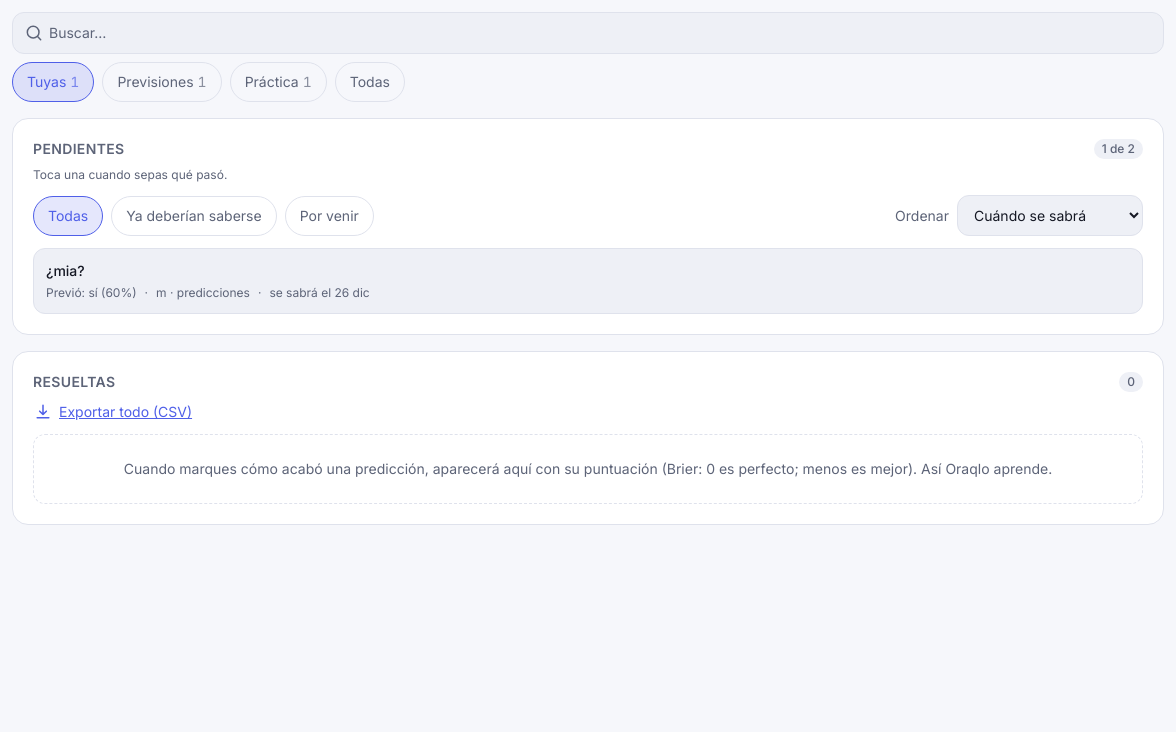
Predicciones: filtrar y quitar filtros › por defecto enseña solo las tuyas: la Práctica se resuelve sola
Expected: the text "¿mia?" is shown, [46, 262, 85, 279]
Expected: the text "mercado" is not shown
What coordinates should you click on to do the following:
click the radio button labelled "Práctica1"
I would click on:
 (278, 82)
Its box is [230, 62, 327, 102].
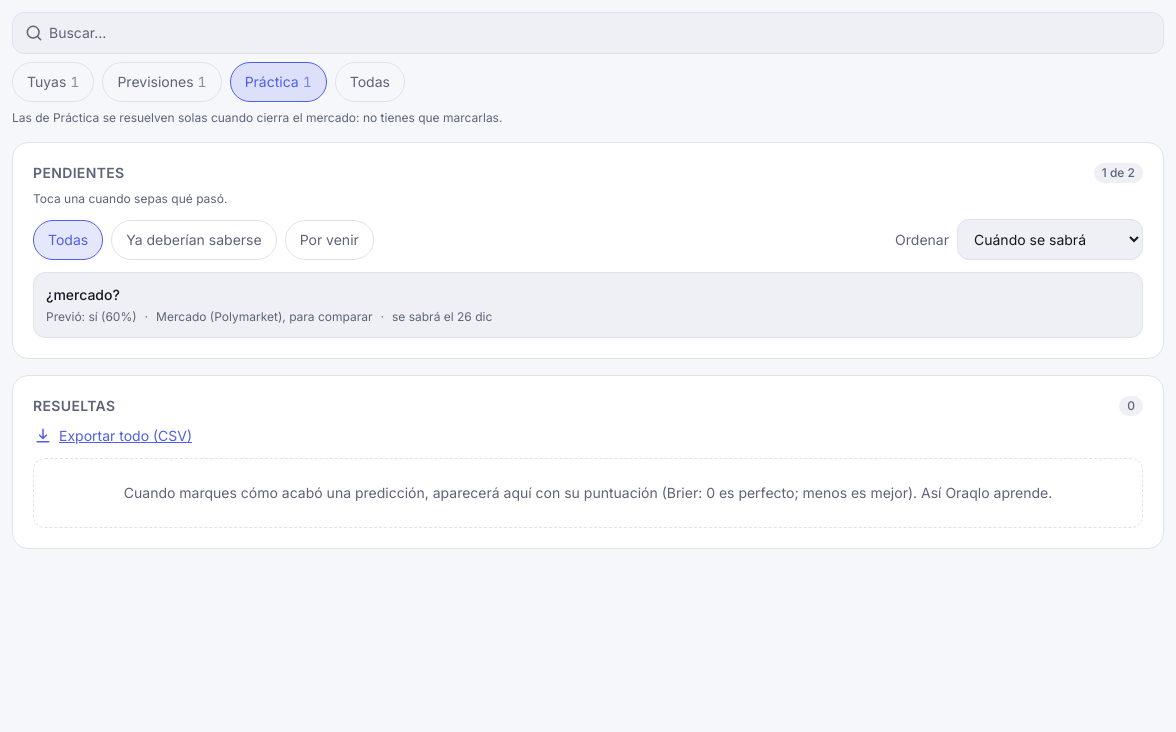
Now the text "se resuelven solas" is shown, box [12, 110, 502, 125]
